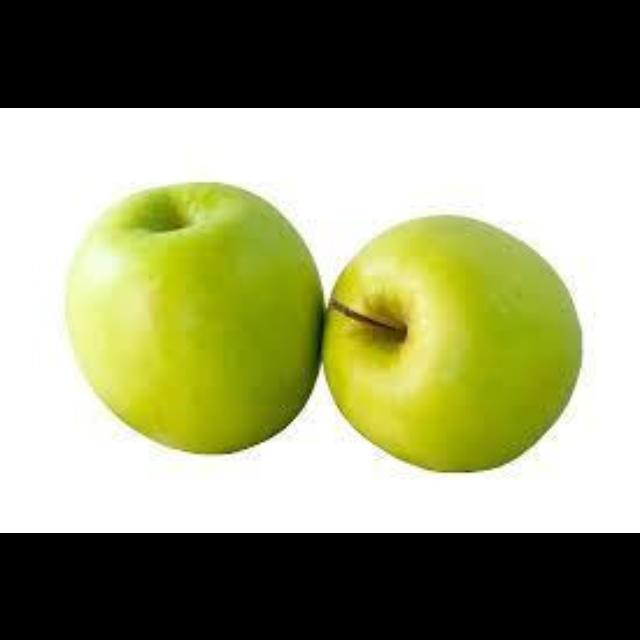apple: (65, 181, 319, 451), (323, 214, 579, 470)
